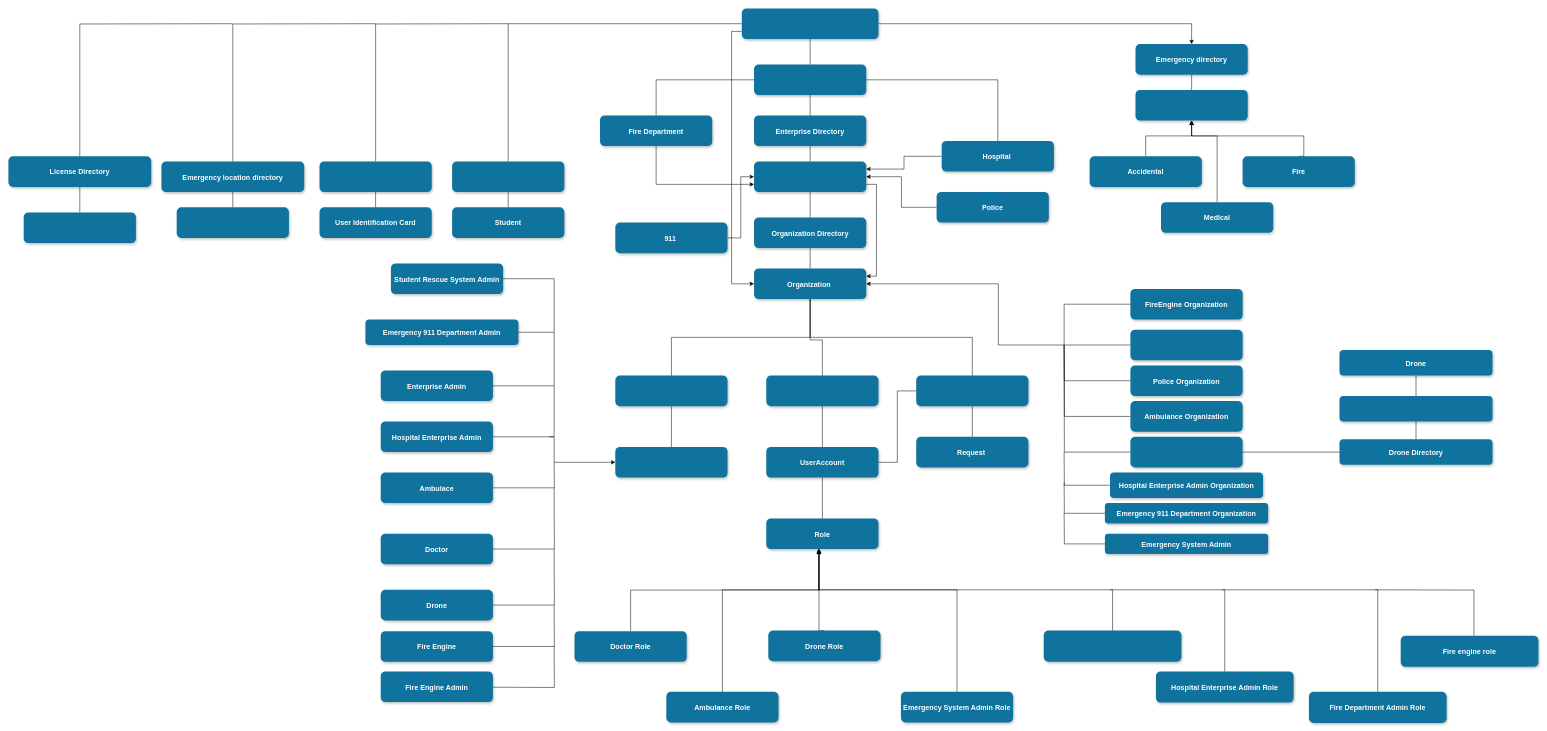
The diagram is 1547 pixels wide and 731 high, and some of its shapes have lost their labels. The shapes that lost their labels are listed below. From the top down, each one's centre as x and y in pixels, then its label:
point (810, 24): Student Rescue Mangement Systems
point (810, 80): Network
point (1192, 106): Emergency
point (376, 177): User Identification Directory
point (508, 177): Student Directory
point (810, 177): Enterprise
point (80, 228): License plate
point (233, 223): Emergency Location
point (1186, 345): Doctor Organization
point (671, 391): Employee Directory
point (822, 391): User Account Directory
point (972, 391): Queue
point (1416, 409): Drone Stations
point (671, 463): Employee
point (1186, 453): Drone Organization
point (1112, 646): Emergency 911 Department AdminRole
